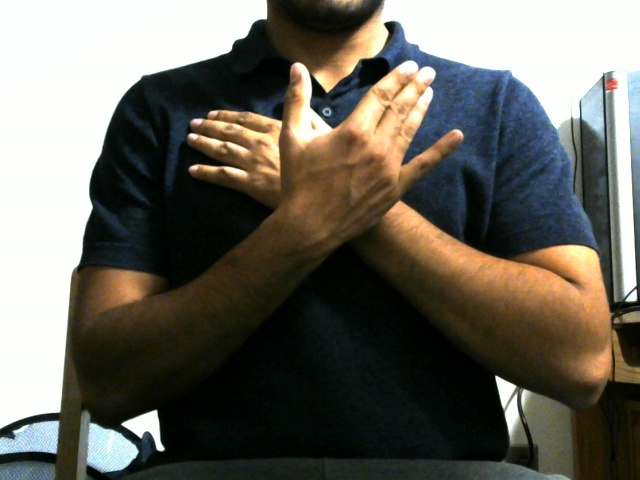blood: (170, 44, 491, 271)
